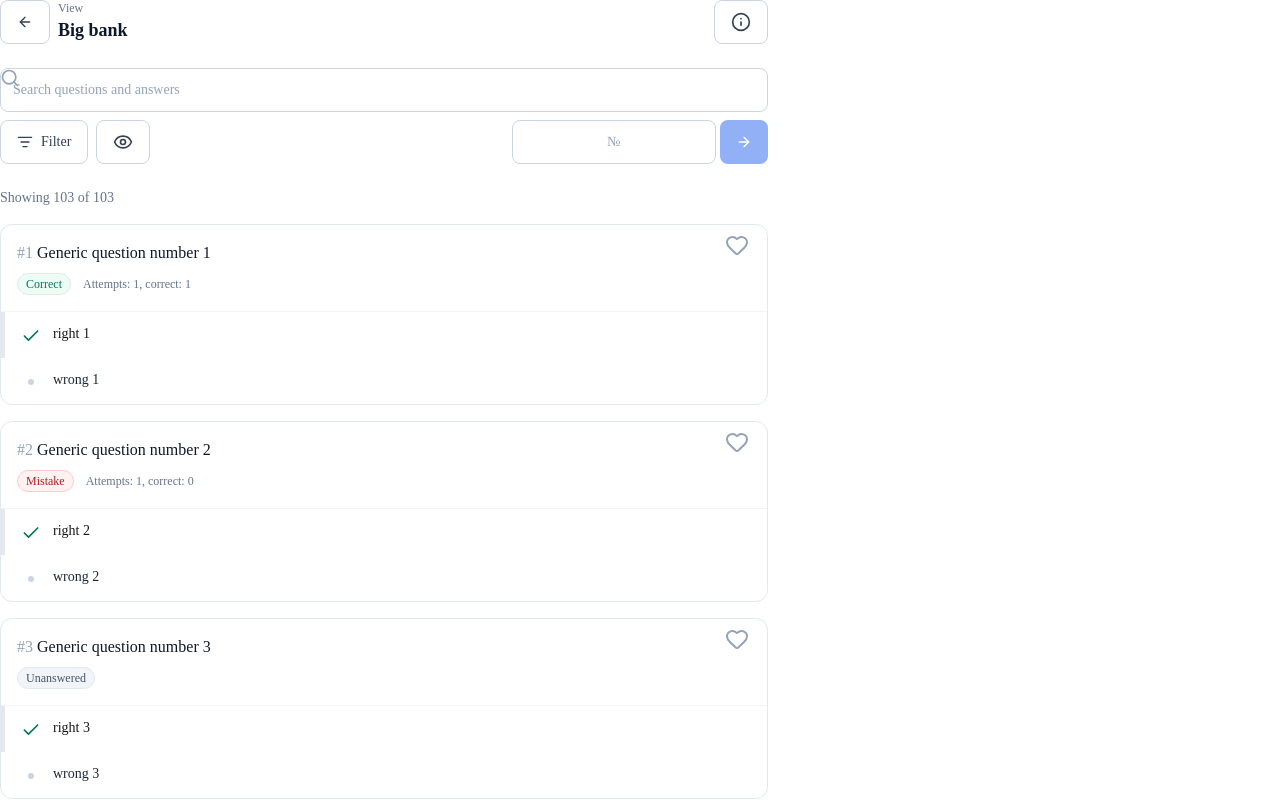
info › shows the test, its source and the progress
Click the button named "Info".
click(741, 22)  # box [714,0,768,44]
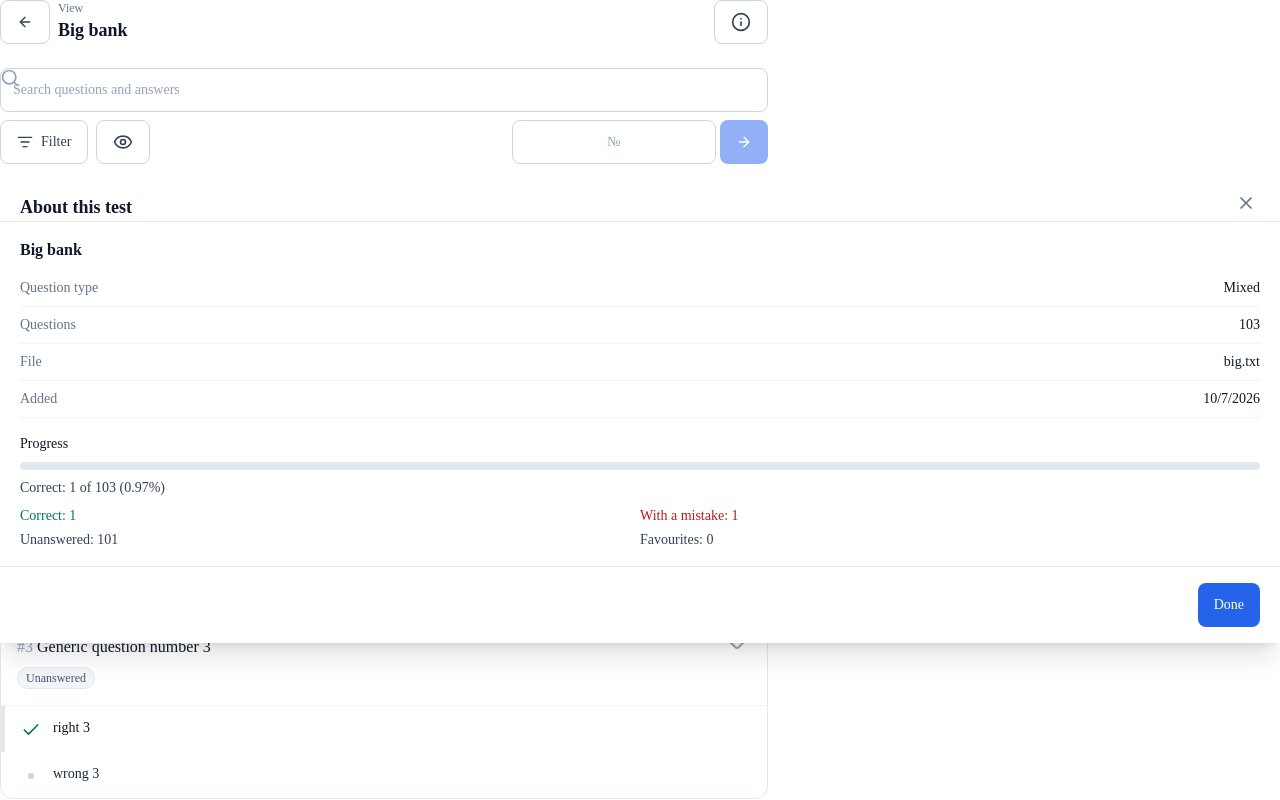
Result: the text "big.txt" is shown at [1224,352,1260,372]
Result: the text "Correct: 1 of 103 (0.97%)" is shown at [20,480,165,495]
Result: the list item "With a mistake: 1" is shown at [640,508,739,523]
